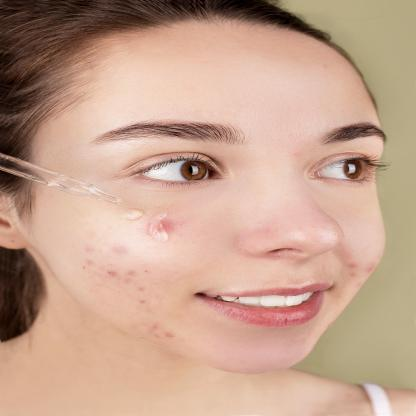Eye: (115, 147, 234, 196), (297, 146, 381, 190)
Mouth: (179, 266, 339, 328)
Nose: (225, 177, 345, 266)
